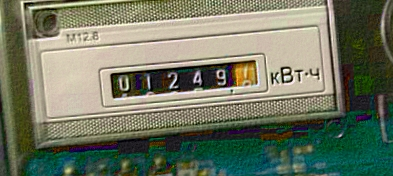0: (117, 72, 131, 93)
1: (142, 71, 153, 91)
2: (166, 70, 180, 91)
4: (191, 68, 203, 87)
7: (239, 60, 251, 80)
9: (214, 67, 228, 88)
screen: (90, 53, 267, 106)
